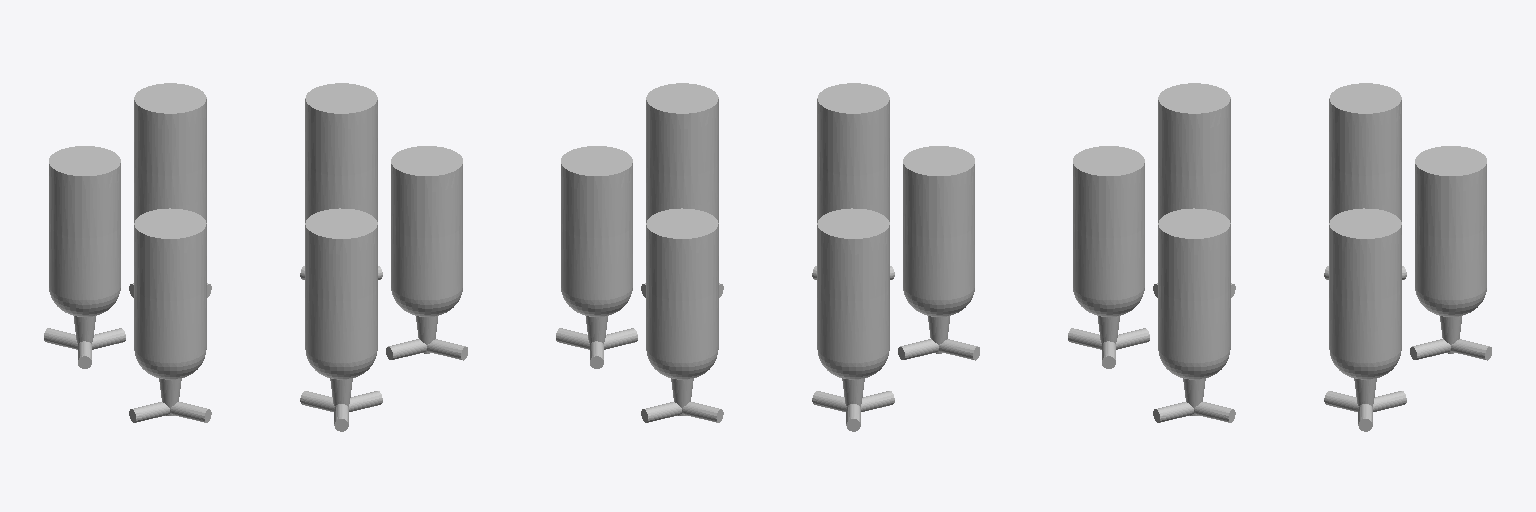
File: barbot11.obj
3 renders of one model, left to right at view 1: azimuth 30°, elevation 25°; view 2: azimuth 150°, elevation 25°; view 3: azimuth 270°, elevation 25°, orthographic.
Bounding box in the file's own units: 33.6 × 18.35 × 37.23.